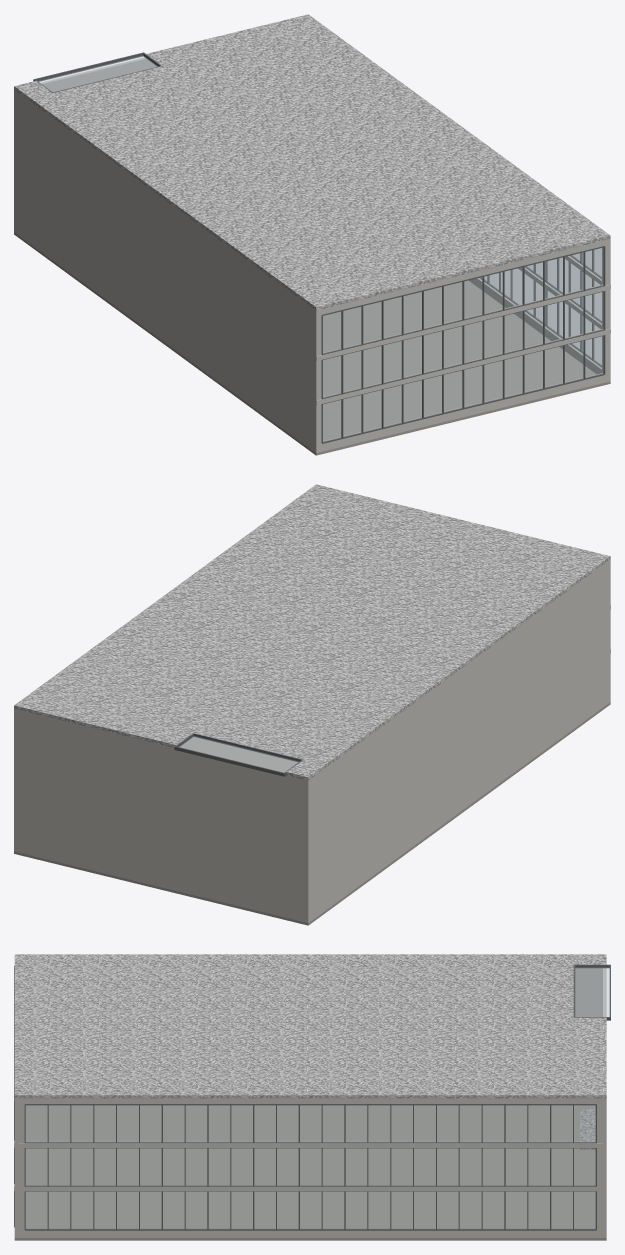
Rendered from model-web.glb.
3 renders of one model, top to bottom at view 1: azimuth 30°, elevation 25°; view 2: azimuth 150°, elevation 25°; view 3: azimuth 270°, elevation 25°, orthographic. The views are drawn at different scales.
Parts seen in each view (by area): view 1: IOM_Roof, IOM_Wall_X0, IOM_Glazing, IOM_Floor, IOM_Mullions, IOM_Wall_Y0, IOM_Spandrel, IOM_Wall_X1, IOM_Wall_Y1; view 2: IOM_Roof, IOM_Wall_X0, IOM_Wall_Y1, IOM_Floor, IOM_Glazing, IOM_Mullions; view 3: IOM_Roof, IOM_Floor, IOM_Glazing, IOM_Mullions, IOM_Wall_X1, IOM_Spandrel, IOM_Wall_X0, IOM_Wall_Y1, IOM_Wall_Y0, IOM_Grass.
Boxes of the visible parts, bbox=[...] form: IOM_Roof: bbox=[14, 14, 610, 310]; IOM_Wall_X0: bbox=[16, 91, 314, 451]; IOM_Glazing: bbox=[38, 56, 603, 441]; IOM_Floor: bbox=[14, 232, 610, 455]; IOM_Mullions: bbox=[33, 52, 605, 443]; IOM_Wall_Y0: bbox=[314, 238, 610, 452]; IOM_Spandrel: bbox=[316, 284, 610, 405]; IOM_Wall_X1: bbox=[469, 248, 602, 374]; IOM_Wall_Y1: bbox=[14, 57, 156, 232]; IOM_Roof: bbox=[14, 484, 610, 780]; IOM_Wall_X0: bbox=[310, 561, 608, 921]; IOM_Wall_Y1: bbox=[14, 708, 310, 922]; IOM_Floor: bbox=[14, 702, 610, 925]; IOM_Glazing: bbox=[179, 736, 298, 772]; IOM_Mullions: bbox=[174, 733, 303, 776]; IOM_Roof: bbox=[14, 954, 606, 1098]; IOM_Floor: bbox=[14, 1105, 606, 1240]; IOM_Glazing: bbox=[26, 968, 609, 1228]; IOM_Mullions: bbox=[14, 964, 610, 1230]; IOM_Wall_X1: bbox=[18, 1098, 602, 1237]; IOM_Spandrel: bbox=[14, 1140, 602, 1191]; IOM_Wall_X0: bbox=[575, 968, 602, 1016]; IOM_Wall_Y1: bbox=[603, 968, 606, 1237]; IOM_Wall_Y0: bbox=[14, 1098, 18, 1237]; IOM_Grass: bbox=[580, 1109, 595, 1149].
Size of the model in its own units: 27.06 by 13 by 48.4.
5 materials, 1 textured.
